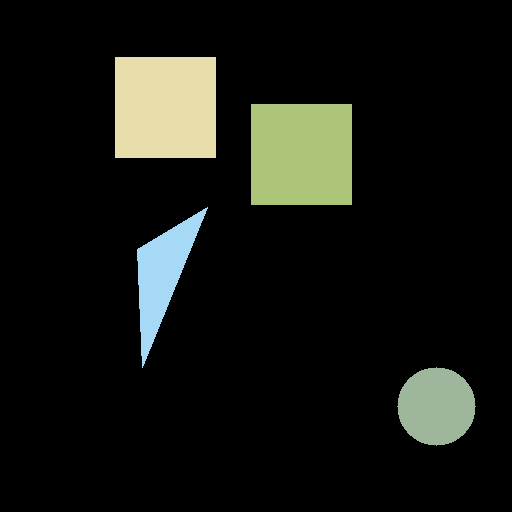circle: (397, 367, 475, 445)
square: (251, 104, 351, 204), (115, 57, 215, 157)
triangle: (137, 207, 207, 367)
